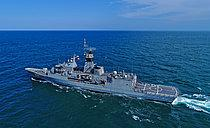MIL_Ship: (21, 48, 180, 107)
